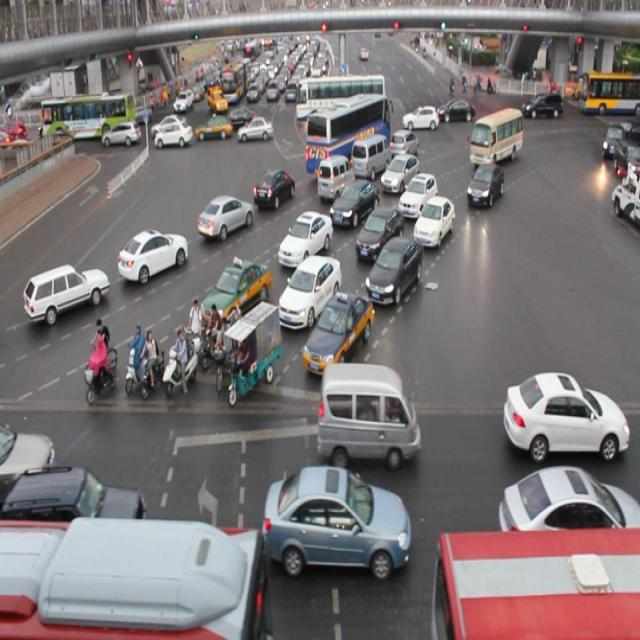car: (262, 464, 411, 581), (498, 464, 640, 553), (1, 464, 146, 548), (502, 367, 628, 463), (299, 296, 372, 378), (199, 254, 272, 335), (24, 259, 109, 322), (276, 251, 342, 329), (362, 230, 424, 306), (117, 225, 187, 282), (0, 421, 54, 492), (277, 210, 332, 266), (197, 192, 253, 242), (353, 207, 402, 261), (328, 177, 379, 225), (412, 194, 455, 246), (254, 168, 298, 208), (381, 148, 420, 190), (466, 163, 503, 207), (399, 172, 438, 211), (390, 126, 418, 162)
truck: (316, 362, 420, 469), (470, 108, 523, 165), (351, 134, 392, 178), (314, 156, 353, 202)
van: (0, 516, 269, 640), (431, 522, 639, 640), (305, 92, 391, 179)
